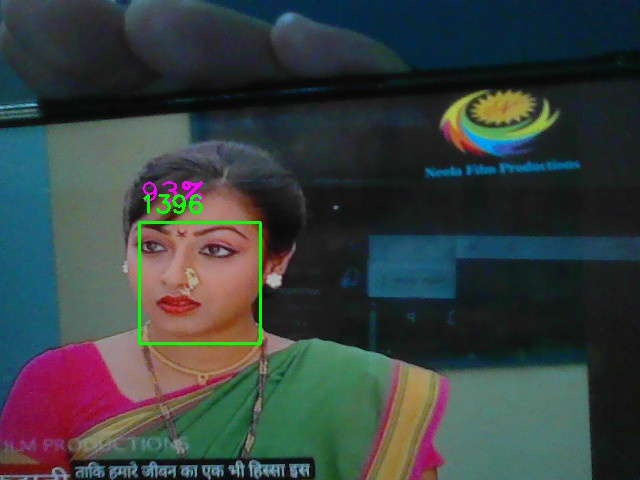fake: (139, 222, 261, 344)
